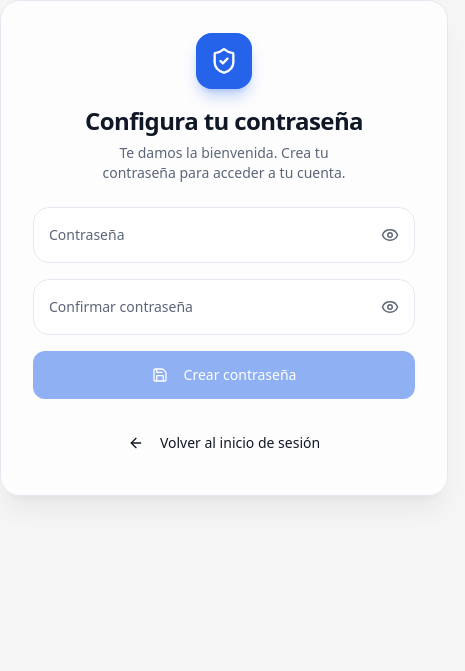
Test case: Configura tu contraseña (/reset-password?welcome=1) › con las cinco reglas y ambas iguales envía la contraseña y va al login
Later steps or results of the test are not shown.
Type "AdminClinica2026!" into the password field labelled "Contraseña".
click(224, 235); type("AdminClinica2026!")  # box [33,207,415,263]
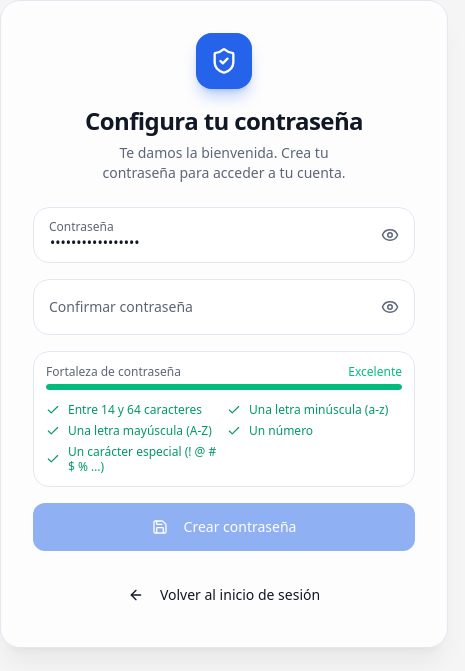
Type "AdminClinica2026!" into the password field labelled "Confirmar contraseña".
click(224, 307); type("AdminClinica2026!")  # box [33,279,415,335]
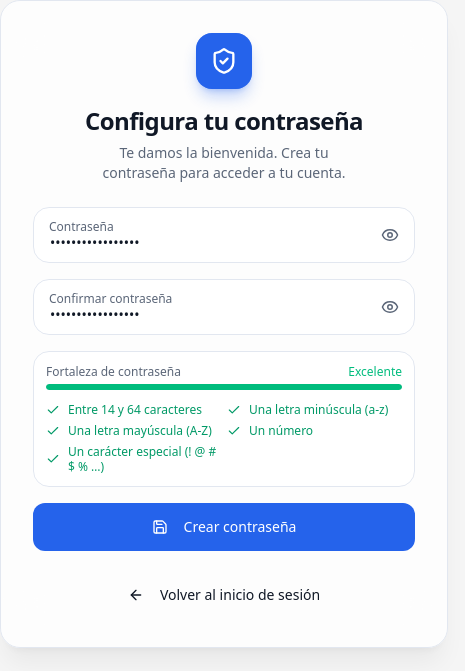
Expected: the button "Crear contraseña" is enabled, [33,503,415,551]
